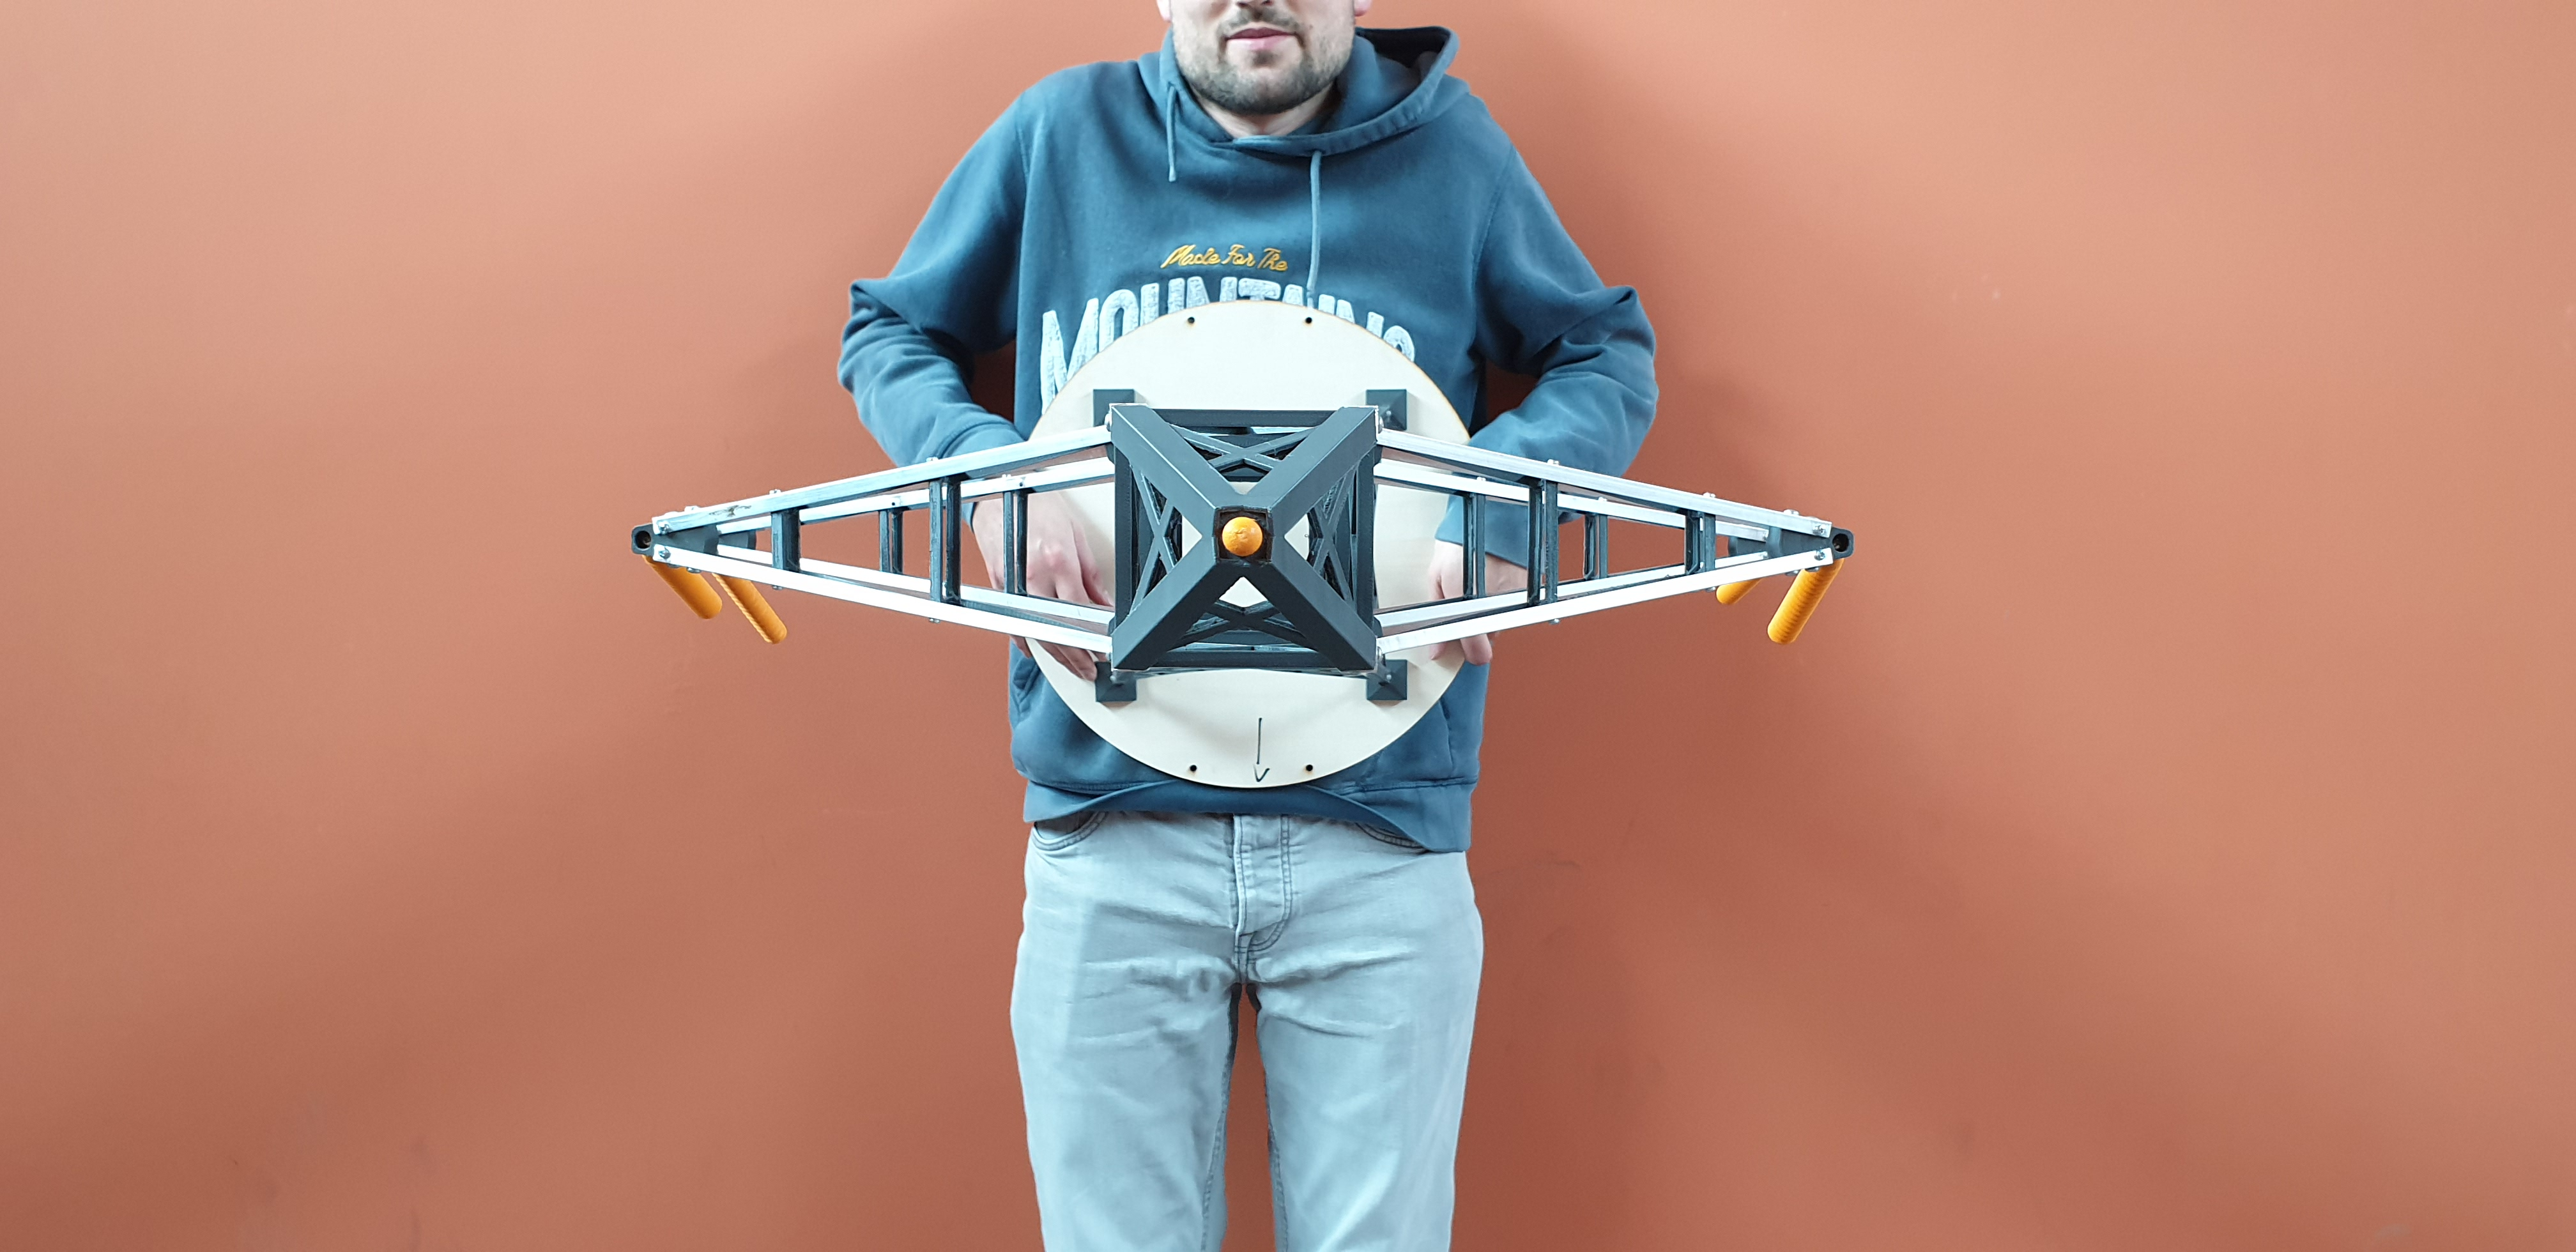pylon_phy: (624, 401, 1860, 677)
